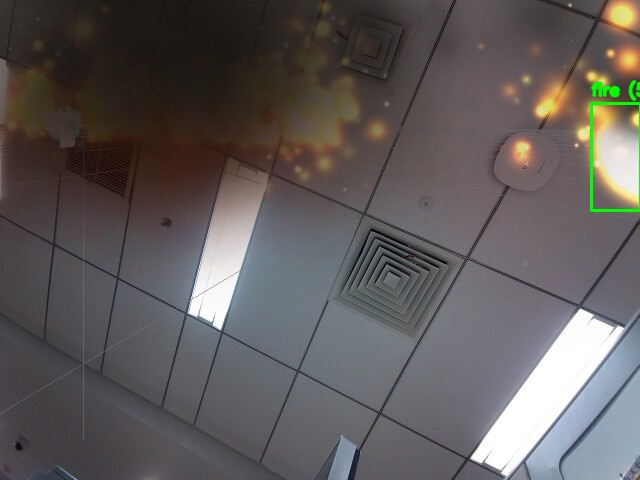fire: (591, 103, 640, 210)
